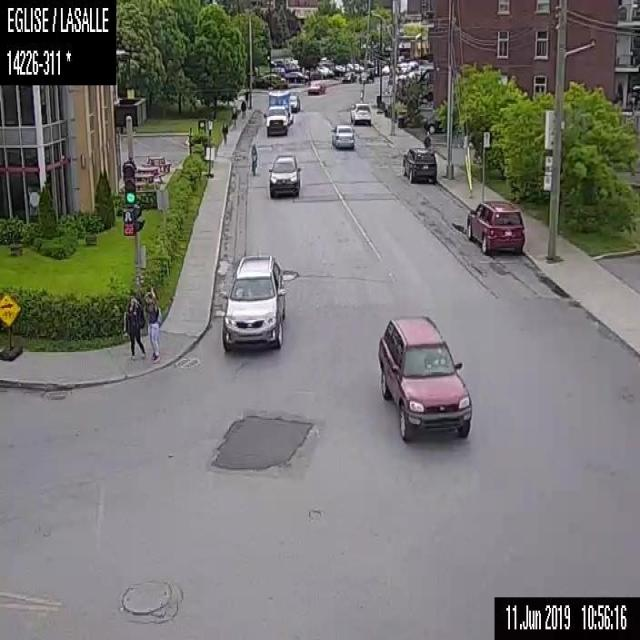cyclist: (249, 144, 258, 175)
pedestrian: (123, 284, 145, 361), (142, 286, 163, 366), (423, 128, 431, 150), (230, 105, 236, 128), (222, 120, 227, 144), (240, 99, 245, 117)
vehicle: (376, 315, 472, 441), (220, 252, 285, 348), (464, 199, 524, 253), (267, 151, 300, 196), (262, 88, 292, 134), (401, 146, 437, 182), (330, 121, 356, 148), (348, 101, 371, 125), (282, 70, 308, 84), (307, 78, 326, 94), (288, 94, 300, 113), (340, 71, 357, 83)
